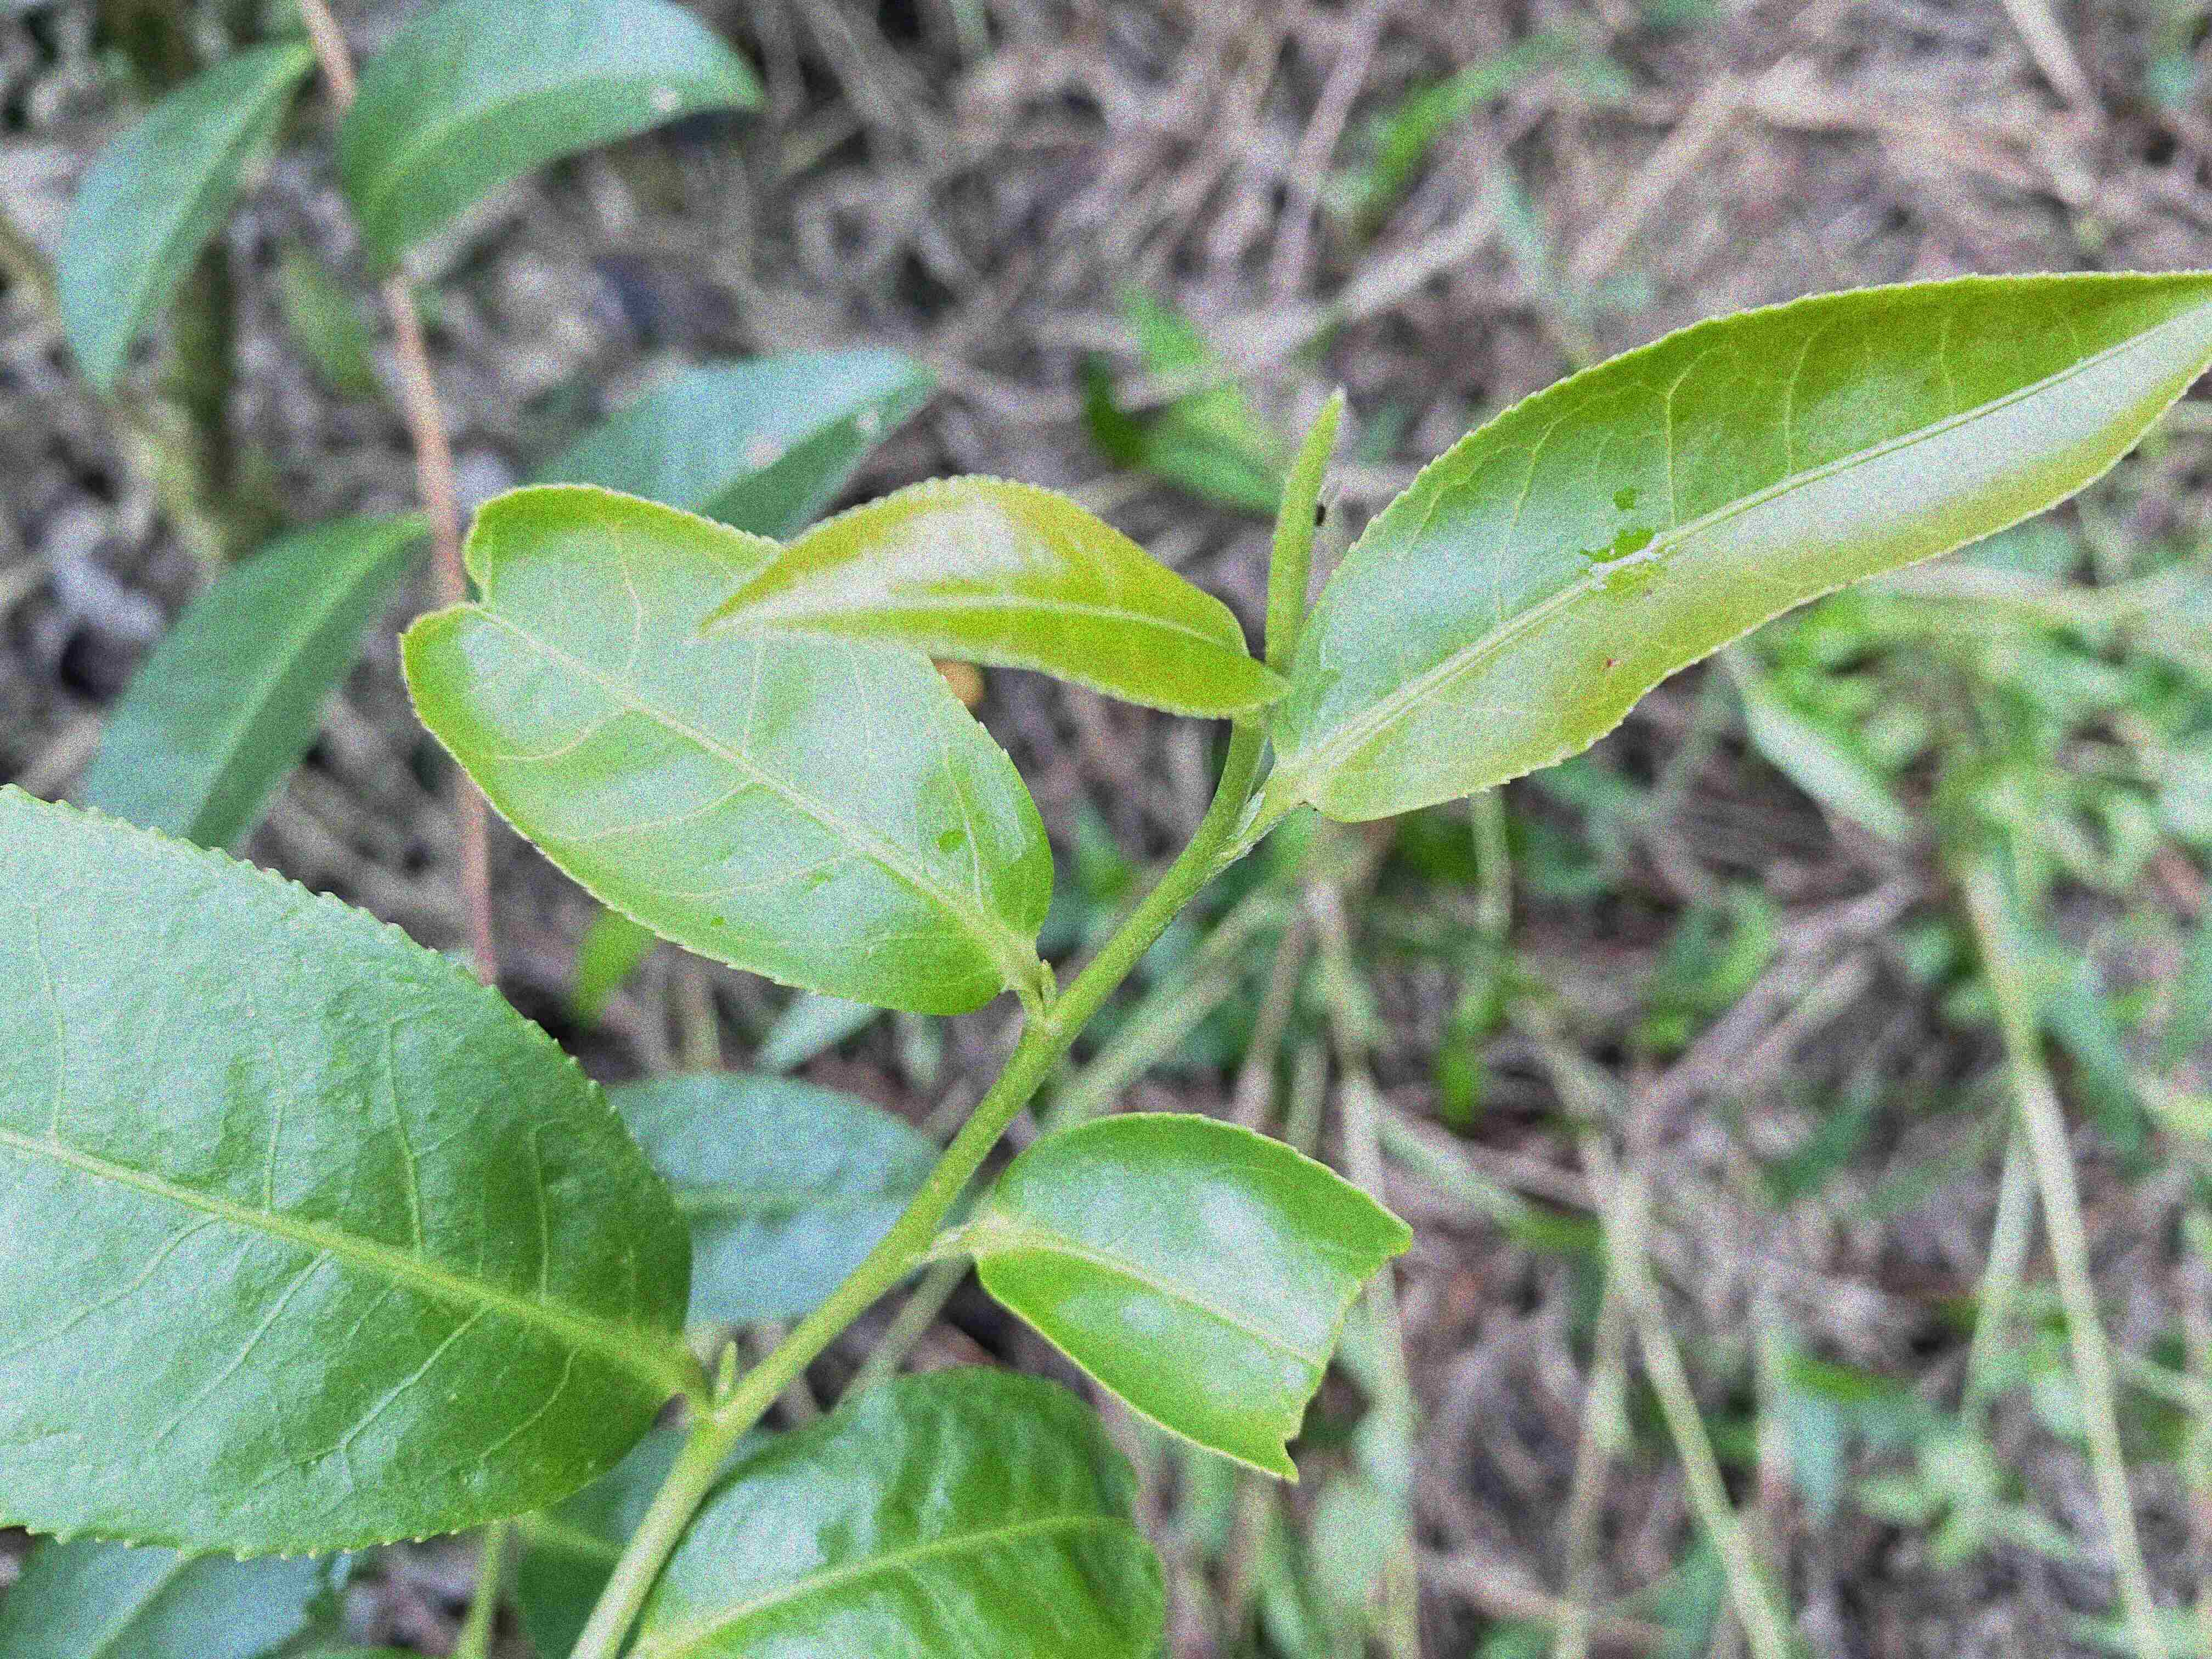chihuo_high: (972, 1112, 1414, 1485)
healthy: (3, 786, 693, 1560), (394, 481, 1059, 1021), (690, 477, 1298, 720)
tanju_low: (1271, 265, 2207, 823)
